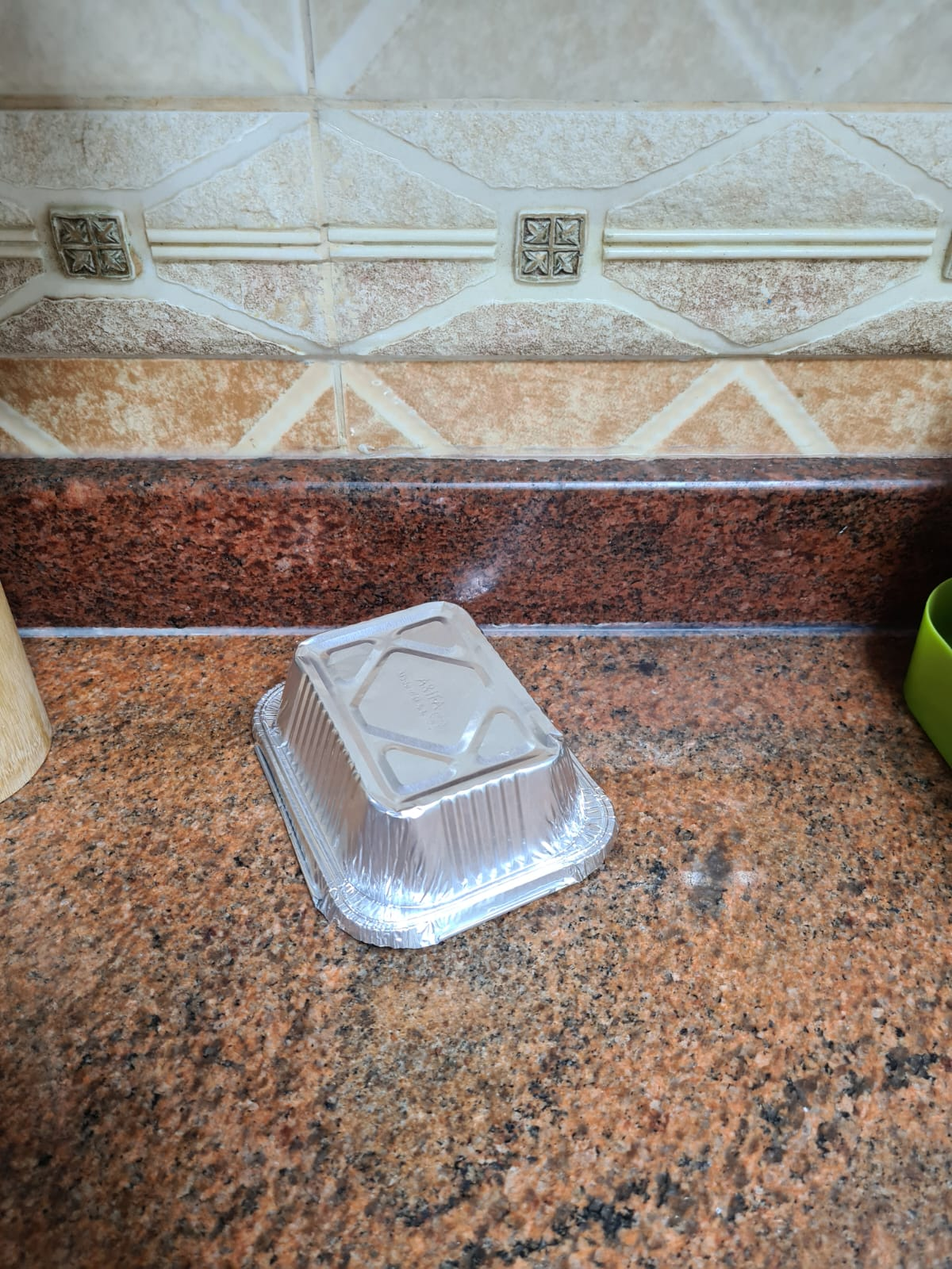Metal: (236, 604, 637, 950)
